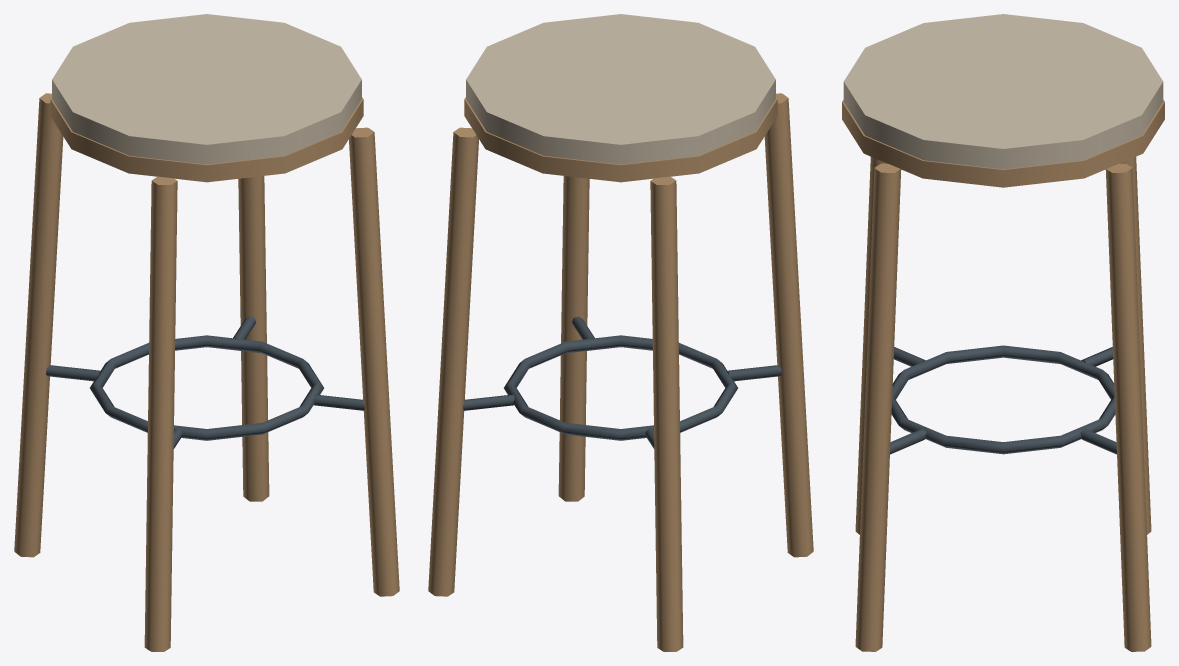
Rendered from barStool-1.glb.
3 renders of one model, left to right at view 1: azimuth 30°, elevation 25°; view 2: azimuth 150°, elevation 25°; view 3: azimuth 270°, elevation 25°, orthographic. The views are drawn at different scales.
Visible parts, largest first — view 1: barStool:1:editor; view 2: barStool:1:editor; view 3: barStool:1:editor.
Part boxes in pixels (left/top/right/bottom): barStool:1:editor: left=14, top=14, right=399, bottom=651; barStool:1:editor: left=428, top=14, right=813, bottom=651; barStool:1:editor: left=842, top=14, right=1164, bottom=651.
Bounding box in the file's own units: 0.432 × 0.7509 × 0.432.
